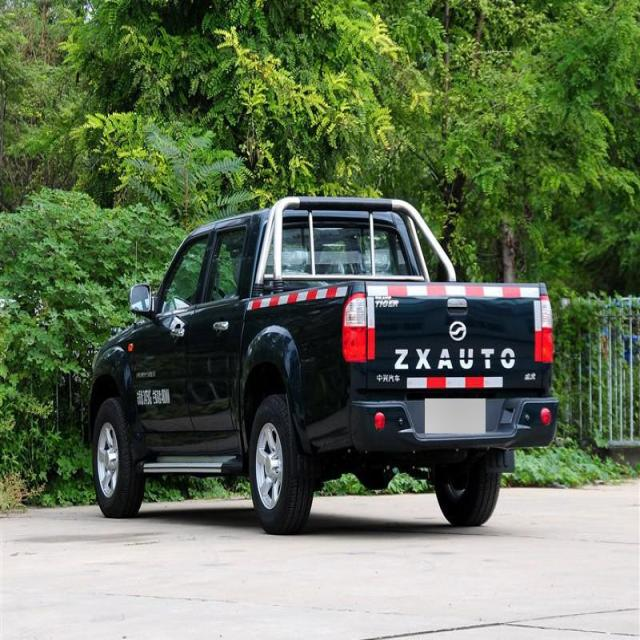back_glass: (261, 217, 418, 286)
back_left_side_light: (343, 289, 368, 363)
back_right_side_light: (540, 292, 554, 363)
door: (190, 216, 256, 468)
front_left_side_door: (129, 221, 218, 465)
front_left_side_mirror: (128, 281, 155, 315)
rear_bumper: (346, 393, 560, 450)
wheel: (249, 395, 303, 534), (93, 398, 137, 520), (432, 462, 498, 527)
